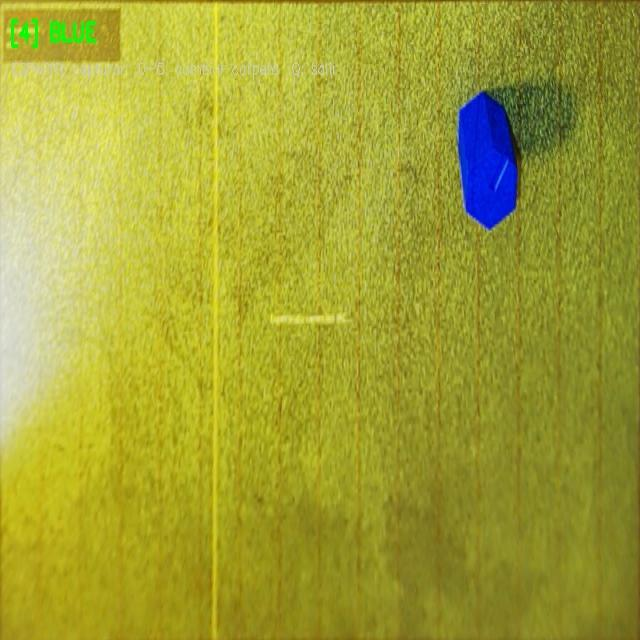blue: (457, 91, 517, 229)
